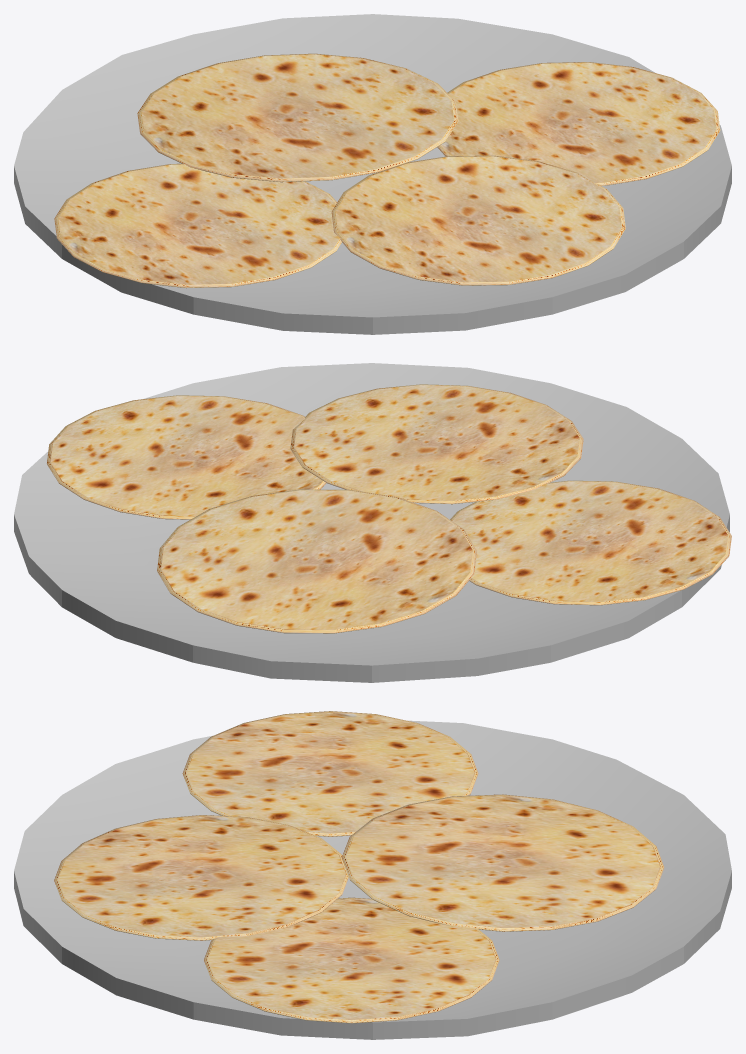
The model's file is Chapati.fbx.
The picture shows the model from 3 angles, top to bottom: view 1: azimuth 30°, elevation 25°; view 2: azimuth 150°, elevation 25°; view 3: azimuth 270°, elevation 25°; orthographic projection.
Parts seen in each view (by area): view 1: Chapati; view 2: Chapati; view 3: Chapati.
Part boxes in pixels (left/top/right/bottom): Chapati: left=14, top=14, right=731, bottom=334; Chapati: left=14, top=363, right=731, bottom=682; Chapati: left=14, top=711, right=731, bottom=1039.
Bounding box in the file's own units: 105 × 10.49 × 102.
